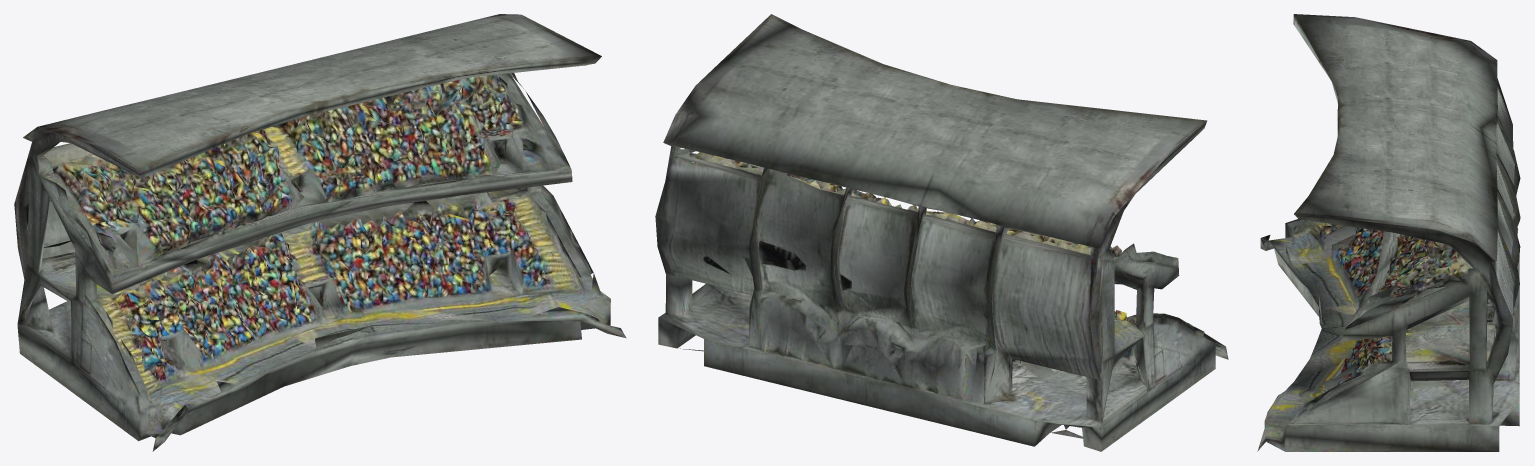
File: grandstand.glb
The picture shows the model from 3 angles, left to right: view 1: azimuth 30°, elevation 25°; view 2: azimuth 150°, elevation 25°; view 3: azimuth 270°, elevation 25°; orthographic projection. The views are drawn at different scales.
Parts seen in each view (by area): view 1: Mesh_0; view 2: Mesh_0; view 3: Mesh_0.
Part boxes in pixels (bbox=[...]): Mesh_0: bbox=[14, 14, 626, 451]; Mesh_0: bbox=[655, 14, 1228, 451]; Mesh_0: bbox=[1257, 14, 1520, 451].
Bounding box in the file's own units: 1.9 × 1.03 × 1.04.
1 material, 1 textured.
